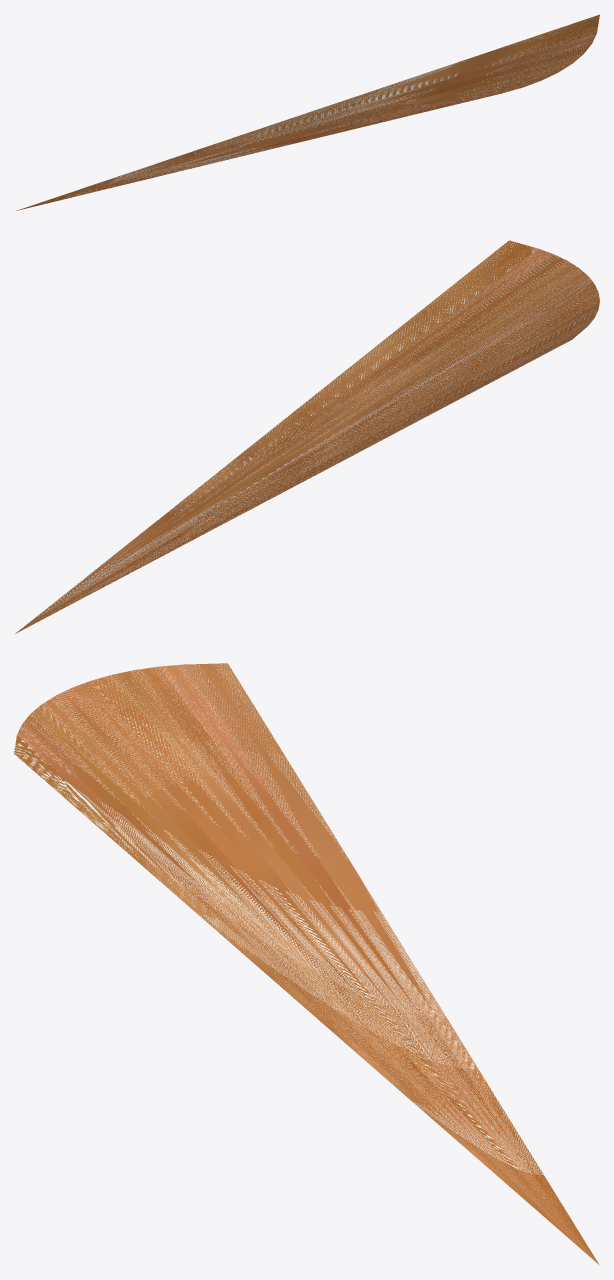
Rendered from original-12.obj.
3 views of the same model, one above another, from view 1: azimuth 90°, elevation 25°; view 2: azimuth 150°, elevation 25°; view 3: azimuth 270°, elevation 25° (orthographic). The views are drawn at different scales.
Visible parts, largest first — view 1: Group7/mesh8/mesh8-geometry#mesh8-geometry; view 2: Group7/mesh8/mesh8-geometry#mesh8-geometry; view 3: Group7/mesh8/mesh8-geometry#mesh8-geometry.
Part boxes in pixels (<box>): Group7/mesh8/mesh8-geometry#mesh8-geometry: <box>16,14,599,210</box>; Group7/mesh8/mesh8-geometry#mesh8-geometry: <box>15,240,599,633</box>; Group7/mesh8/mesh8-geometry#mesh8-geometry: <box>14,663,599,1265</box>.
Size of the model in its own units: 0.0257 by 0.0171 by 0.0256.
